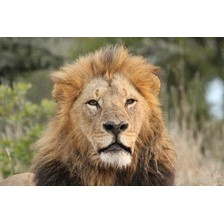lion: (29, 42, 177, 186)
